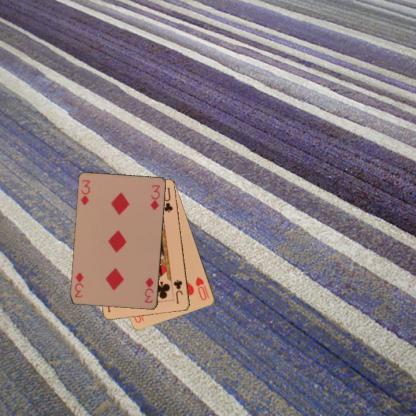10h: (193, 274, 210, 302)
3d: (78, 177, 92, 207), (142, 275, 155, 304)
Jc: (171, 277, 184, 305)
